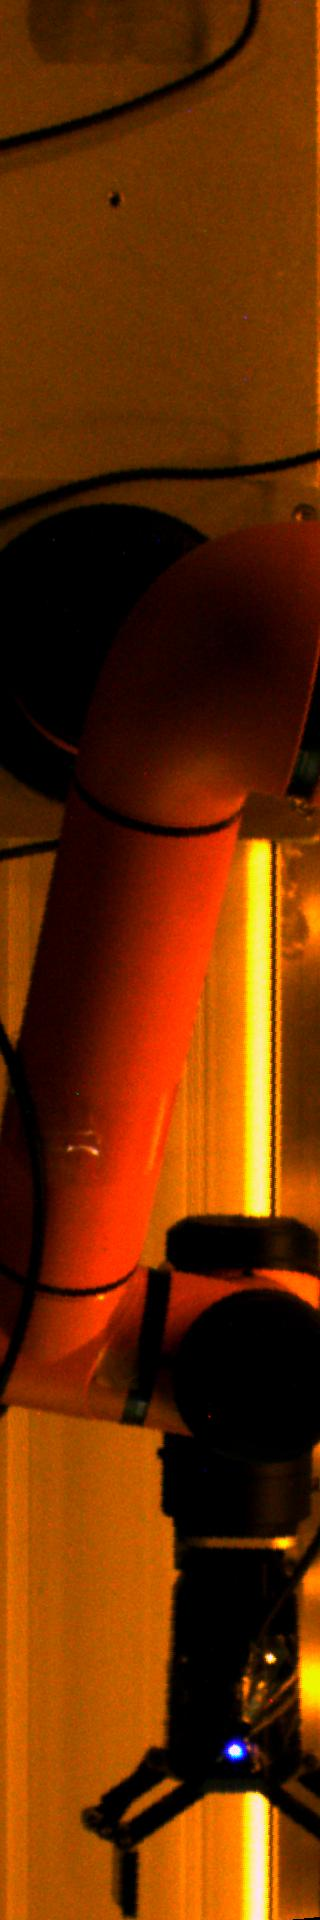keyPoint_1: (219, 1734, 250, 1764)
keyPoint_2: (99, 186, 129, 216)
